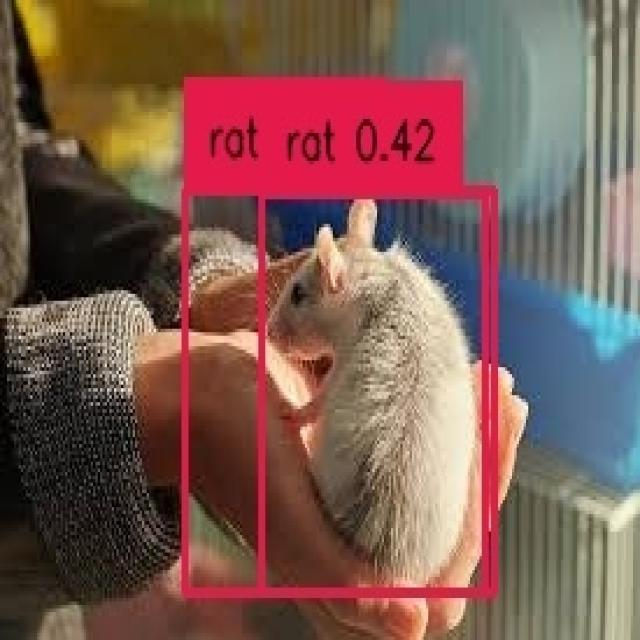rat: (182, 185, 491, 588), (258, 189, 482, 587)
